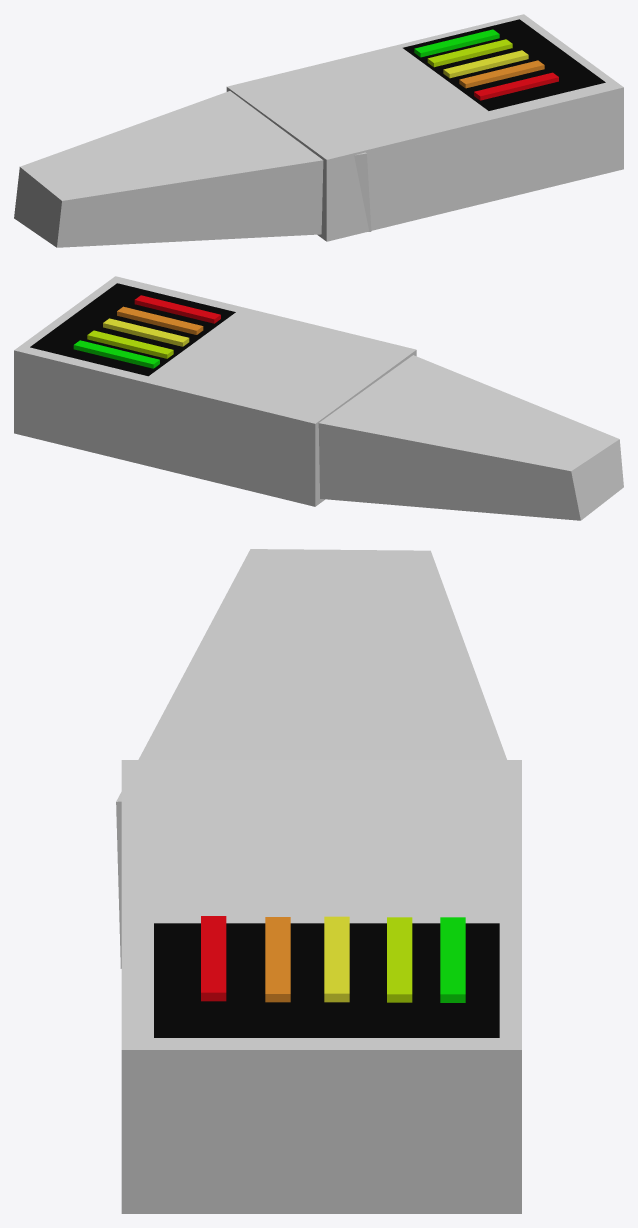
File: EMF_reader.fbx
3 views of the same model, one above another, from view 1: azimuth 30°, elevation 25°; view 2: azimuth 150°, elevation 25°; view 3: azimuth 270°, elevation 25° (orthographic). The views are drawn at different scales.
Parts seen in each view (by area): view 1: Würfel, Würfel.001, Fläche, Würfel.005, Würfel.002, Würfel.003, Würfel.004, Würfel.006; view 2: Würfel, Würfel.001, Fläche, Würfel.002, Würfel.006, Würfel.003, Würfel.004, Würfel.005; view 3: Würfel, Würfel.001, Fläche, Würfel.002, Würfel.003, Würfel.004, Würfel.005, Würfel.006.
Part boxes in pixels (x1=…): Würfel: x1=226, y1=14, x2=623, y2=241; Würfel.001: x1=14, y1=91, x2=371, y2=247; Fläche: x1=403, y1=19, x2=605, y2=110; Würfel.005: x1=459, y1=60, x2=544, y2=88; Würfel.002: x1=443, y1=50, x2=528, y2=78; Würfel.003: x1=427, y1=39, x2=512, y2=67; Würfel.004: x1=414, y1=29, x2=499, y2=57; Würfel.006: x1=474, y1=72, x2=558, y2=100; Würfel: x1=14, y1=276, x2=416, y2=506; Würfel.001: x1=318, y1=355, x2=623, y2=520; Fläche: x1=30, y1=283, x2=235, y2=376; Würfel.002: x1=103, y1=318, x2=189, y2=346; Würfel.006: x1=134, y1=295, x2=220, y2=323; Würfel.003: x1=87, y1=330, x2=173, y2=358; Würfel.004: x1=73, y1=340, x2=159, y2=368; Würfel.005: x1=117, y1=306, x2=203, y2=334; Würfel: x1=121, y1=760, x2=521, y2=1213; Würfel.001: x1=116, y1=549, x2=506, y2=968; Fläche: x1=154, y1=923, x2=499, y2=1037; Würfel.002: x1=324, y1=916, x2=349, y2=1002; Würfel.003: x1=387, y1=917, x2=412, y2=1002; Würfel.004: x1=440, y1=917, x2=465, y2=1002; Würfel.005: x1=265, y1=917, x2=290, y2=1002; Würfel.006: x1=201, y1=916, x2=226, y2=1001.
Size of the model in its own units: 2299 by 368 by 756.
